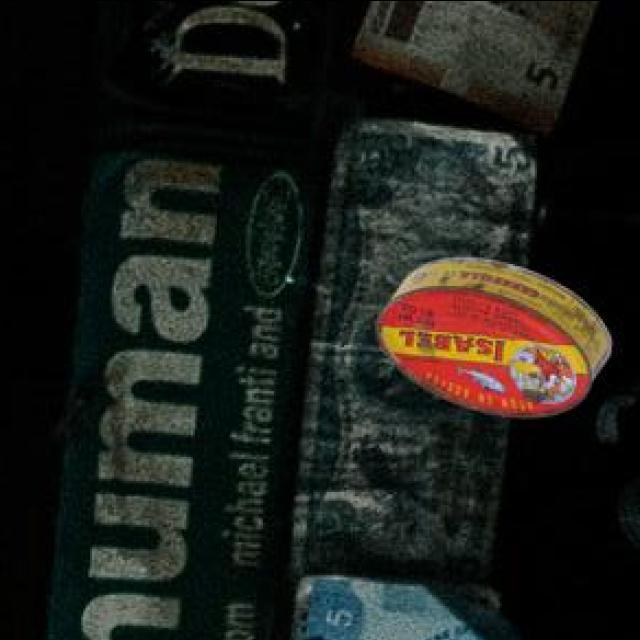logam: (374, 260, 608, 420)
